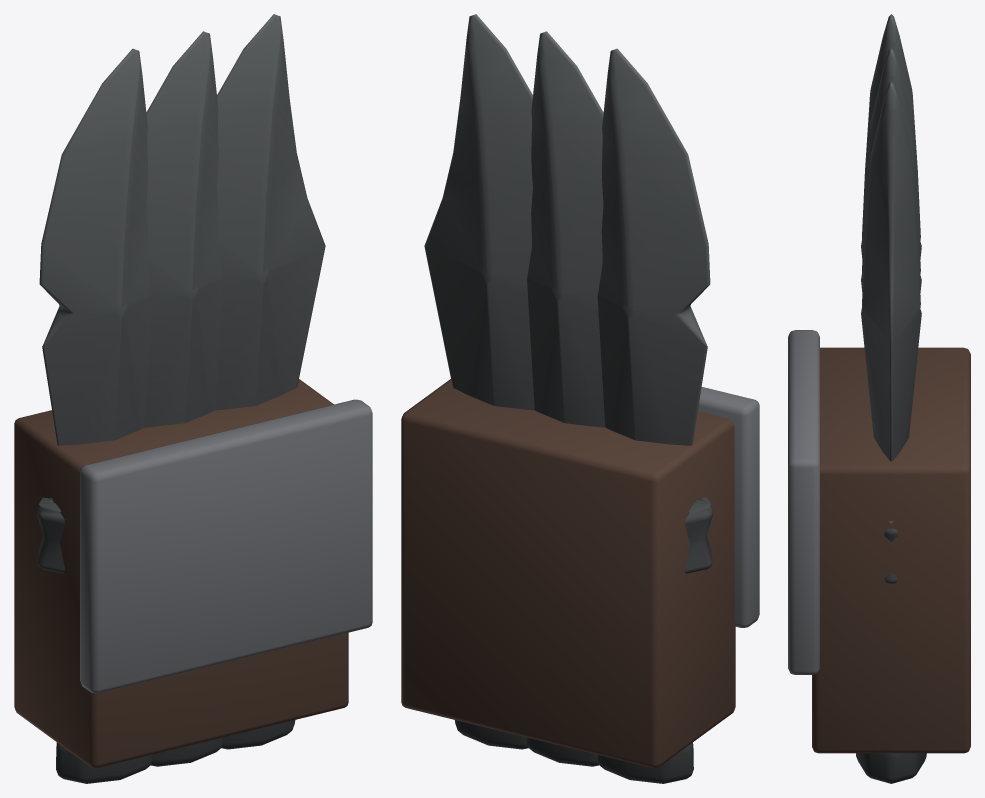
Rendered from fist_2.glb.
The picture shows the model from 3 angles, left to right: view 1: azimuth 30°, elevation 25°; view 2: azimuth 150°, elevation 25°; view 3: azimuth 270°, elevation 25°; orthographic projection. The views are drawn at different scales.
Visible parts, largest first — view 1: fist_2; view 2: fist_2; view 3: fist_2.
Boxes of the visible parts, left/top/right/bottom form: fist_2: left=14, top=14, right=372, bottom=783; fist_2: left=401, top=14, right=759, bottom=783; fist_2: left=788, top=14, right=970, bottom=783.
Bounding box in the file's own units: 0.1452 × 0.35 × 0.0822.
5 materials, 3 textured.
